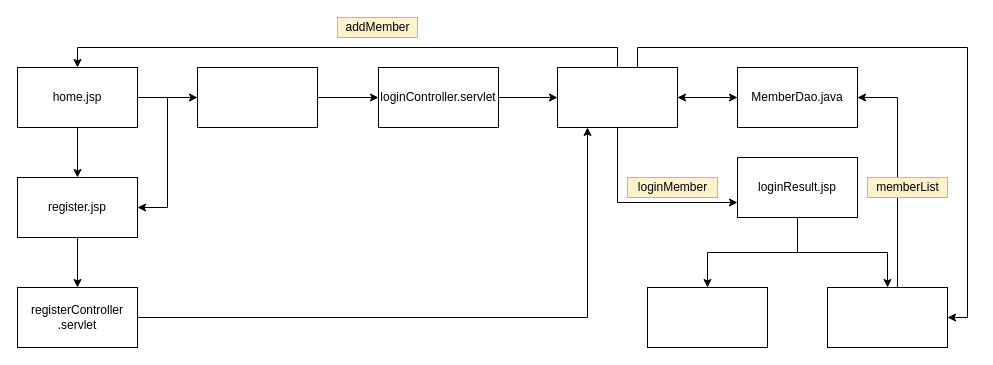
Image size: 993x365. Some labels were removed from this diagram. Each missing label, with the centre of its shape:
"login.jsp" belongs at point (257, 97).
"logout.jsp" belongs at point (707, 317).
"MemberDto.java" belongs at point (617, 97).
"memberList.jsp" belongs at point (887, 317).
